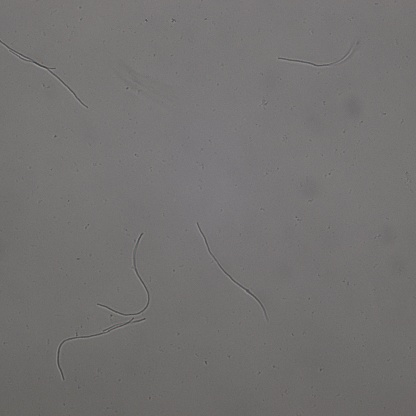Sensitive: (197, 223, 268, 320), (1, 42, 88, 107), (57, 318, 147, 379), (94, 233, 151, 316), (278, 41, 356, 66)
